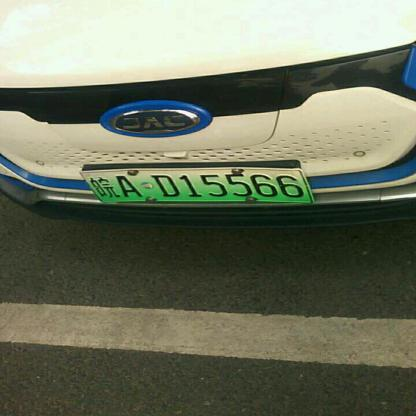lp: (81, 170, 312, 201)
